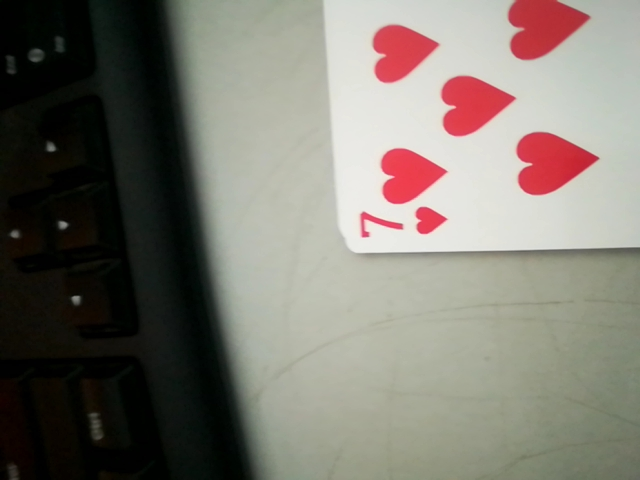hx 7: (352, 202, 457, 258)
